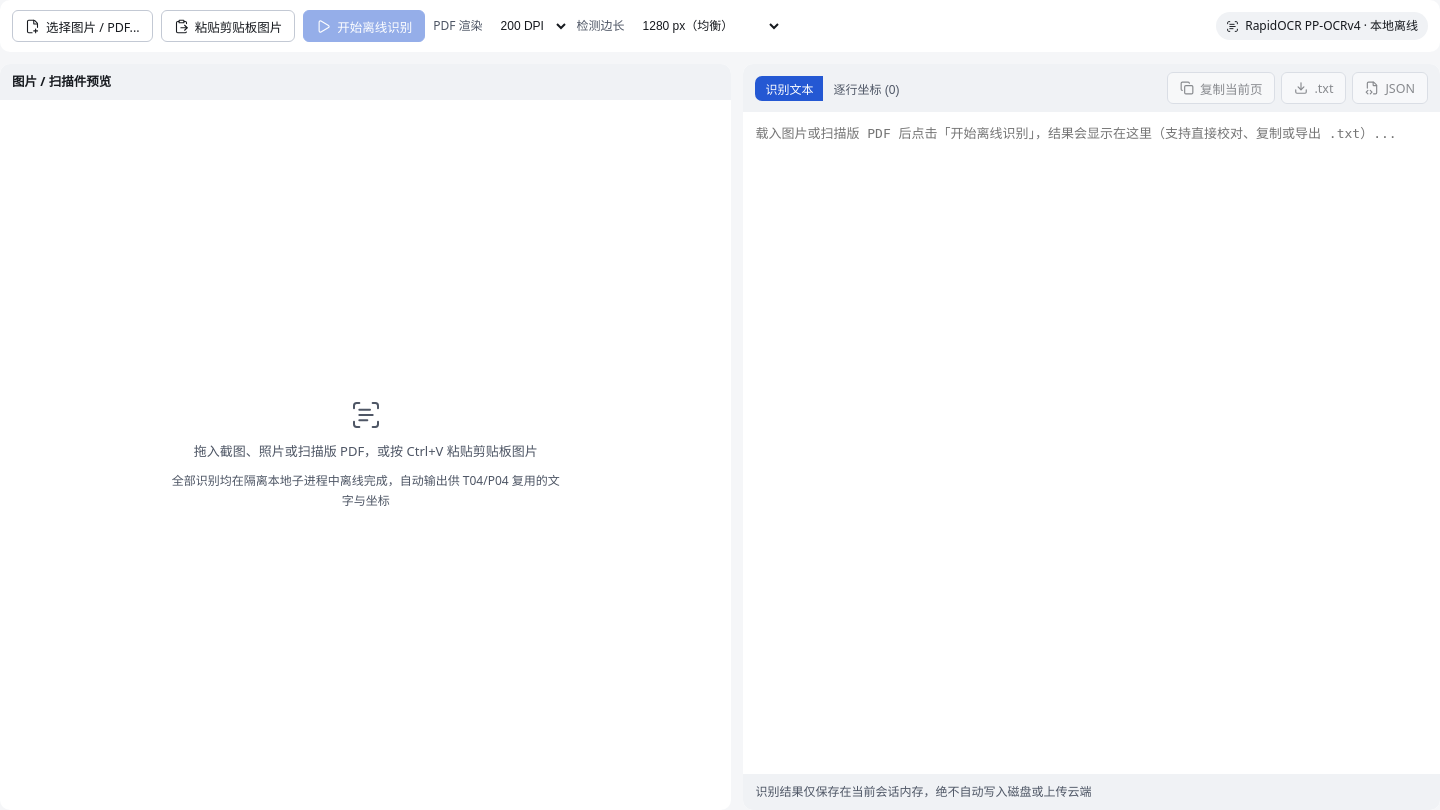
Test case: ExtractTextWorkspace (T03) › protects all queued source files (A and B) during TXT and JSON export via forbiddenSourcePaths
Click the button "选择图片 / PDF..." at point(82, 26), box [12,10,153,42]
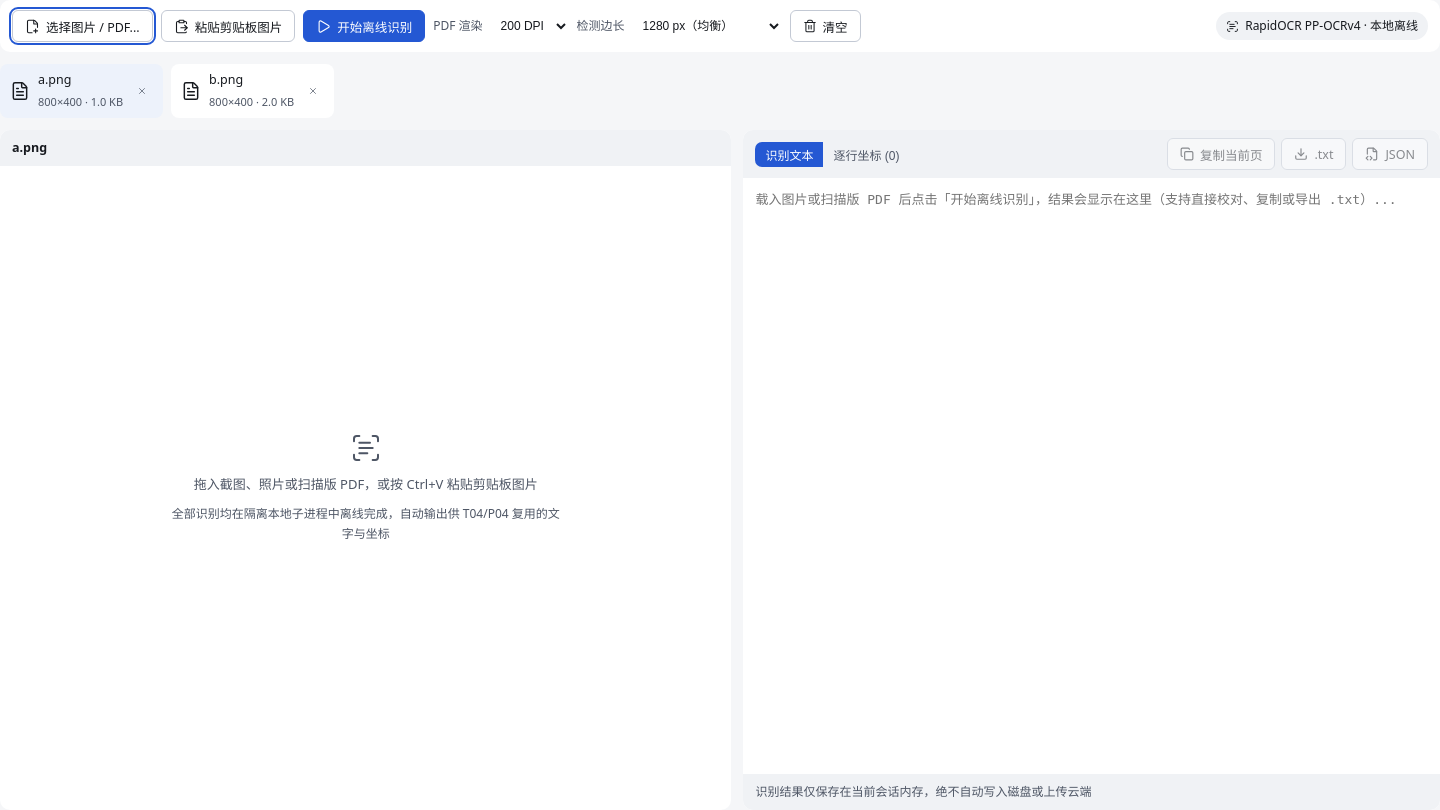
Click the button "开始离线识别" at point(364, 26), box [303,10,425,42]
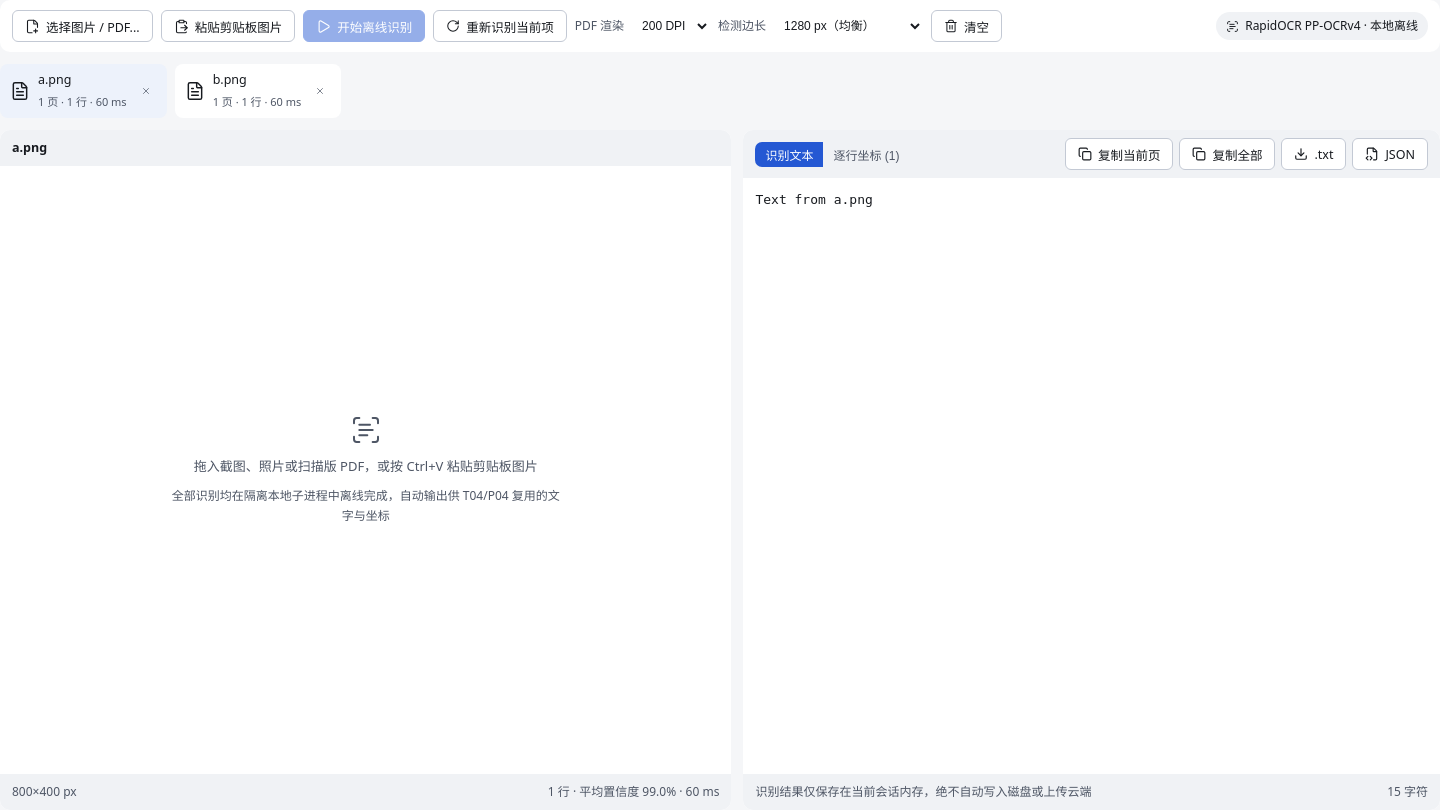
Now the text box named "离线识别文本结果" holds "Text from a.png", box [743,178,1439,774]
Click the button ".txt" at point(1314, 154), box [1282,138,1346,170]
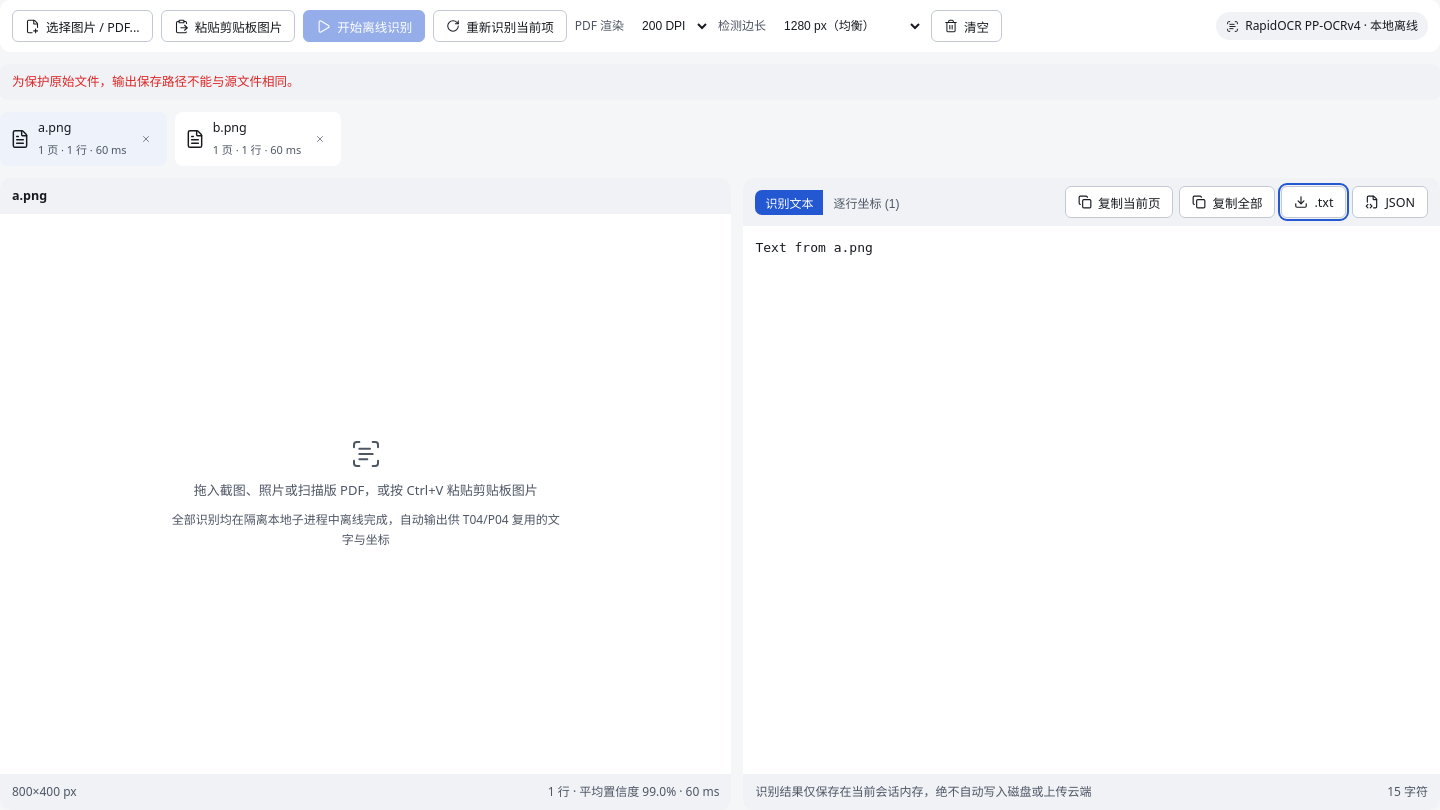
Now the message "为保护原始文件，输出保存路径不能与源文件相同。" is shown, box [0,64,1439,100]
Click the button "JSON" at point(1390, 202), box [1352,186,1428,218]
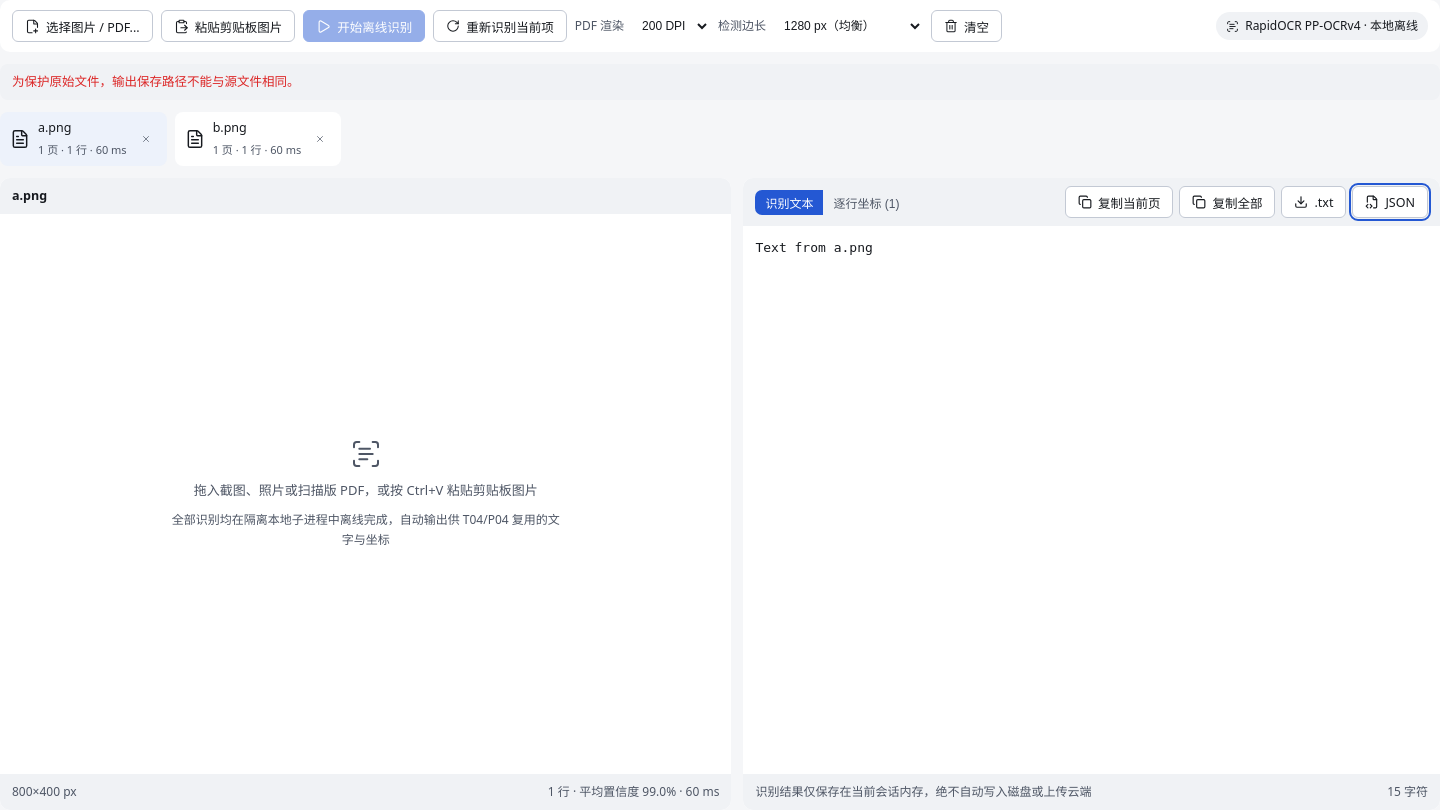
Click the button ".txt" at point(1314, 202), box [1282,186,1346,218]
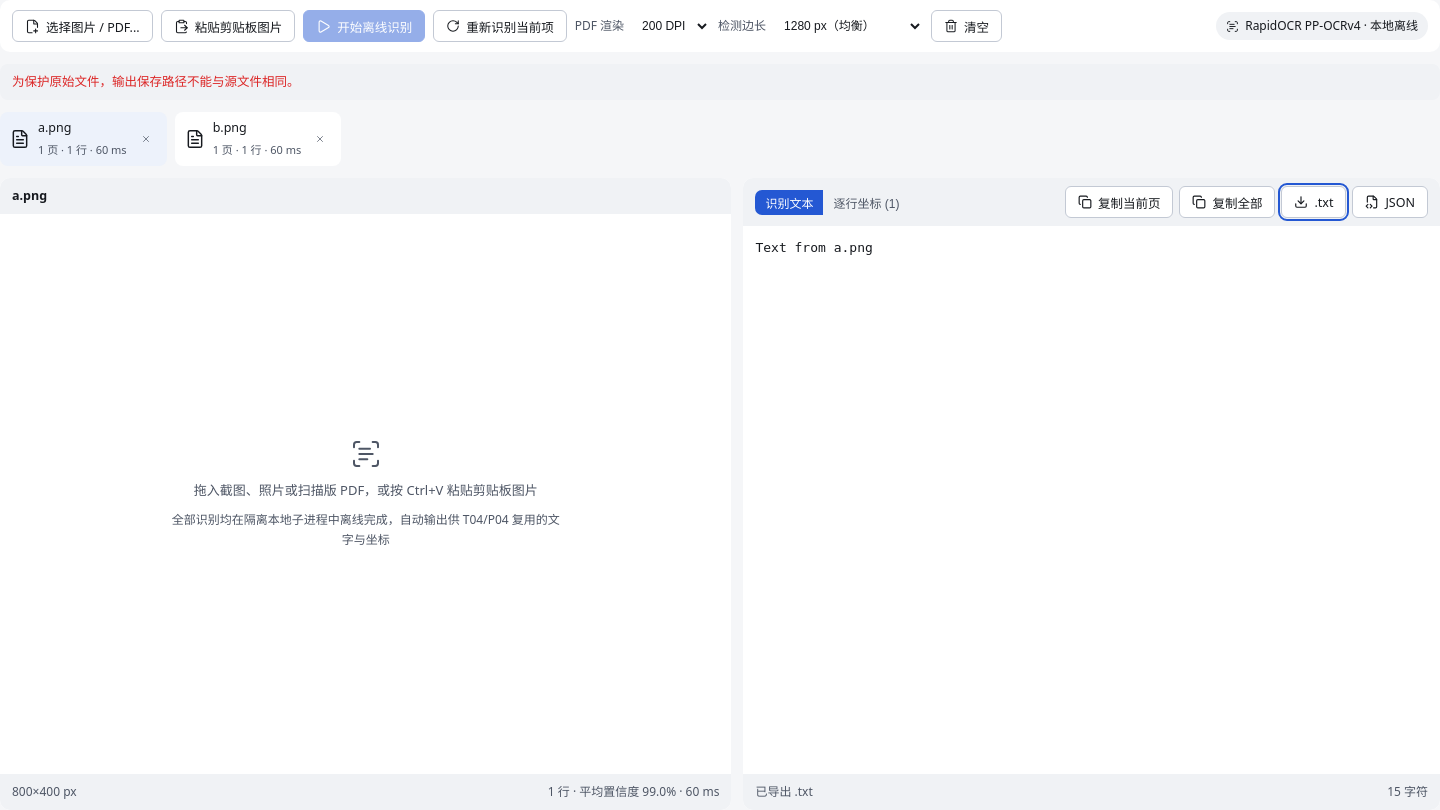
Now the text "已导出 .txt" is shown, box [755,782,813,802]
